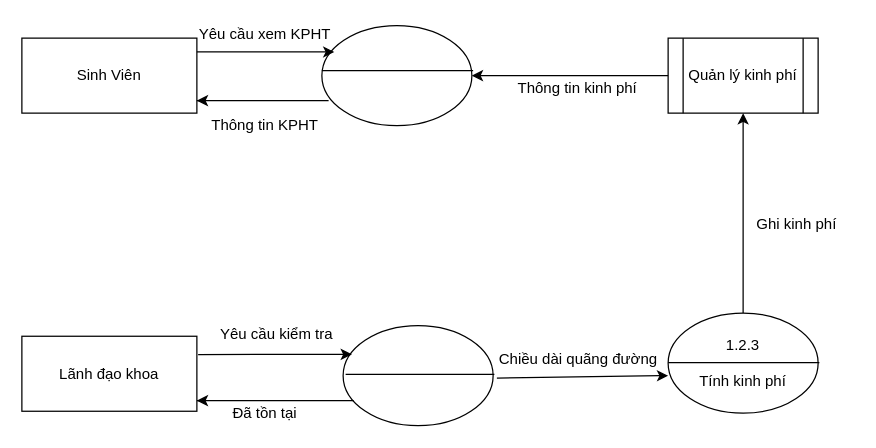
Some shapes in this 876 by 448 pixel diagram are drawn without their labels. The centre of each missing label's shape, as x and y in pixels:
"1.2.1 Xem KPHT" belongs at pixel 396 75.
"1.2.2 Xét quãng đường" belongs at pixel 417 375.
